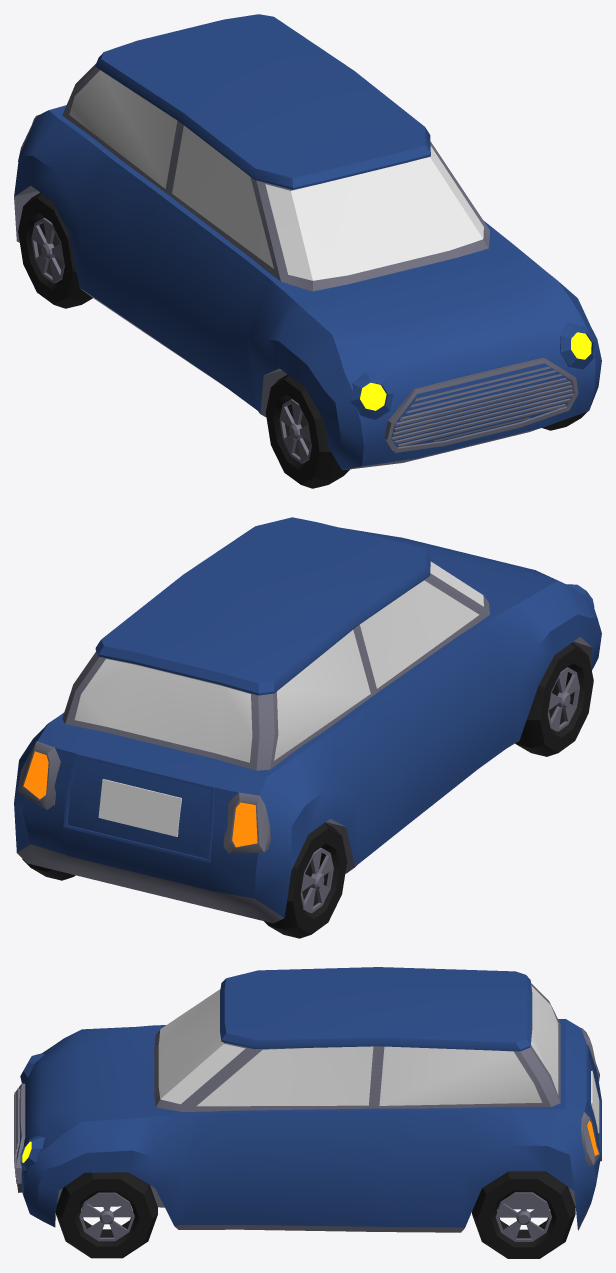
File: Mini Cooper low poly.fbx
3 views of the same model, one above another, from view 1: azimuth 30°, elevation 25°; view 2: azimuth 150°, elevation 25°; view 3: azimuth 270°, elevation 25° (orthographic). The views are drawn at different scales.
Parts seen in each view (by area): view 1: Cube.003, Wheel.001; view 2: Cube.003, Wheel.001; view 3: Cube.003, Wheel.001.
Boxes of the visible parts, left/top/right/bottom form: Cube.003: left=14, top=14, right=601, bottom=470; Wheel.001: left=18, top=192, right=587, bottom=488; Cube.003: left=14, top=517, right=601, bottom=923; Wheel.001: left=22, top=643, right=593, bottom=938; Cube.003: left=14, top=967, right=601, bottom=1232; Wheel.001: left=56, top=1171, right=575, bottom=1258.
Size of the model in its own units: 478 by 400 by 1035.
